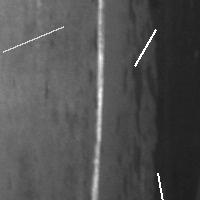scratches: (126, 1, 198, 197), (88, 1, 108, 199), (0, 21, 68, 56), (129, 25, 160, 71), (152, 168, 175, 200)
